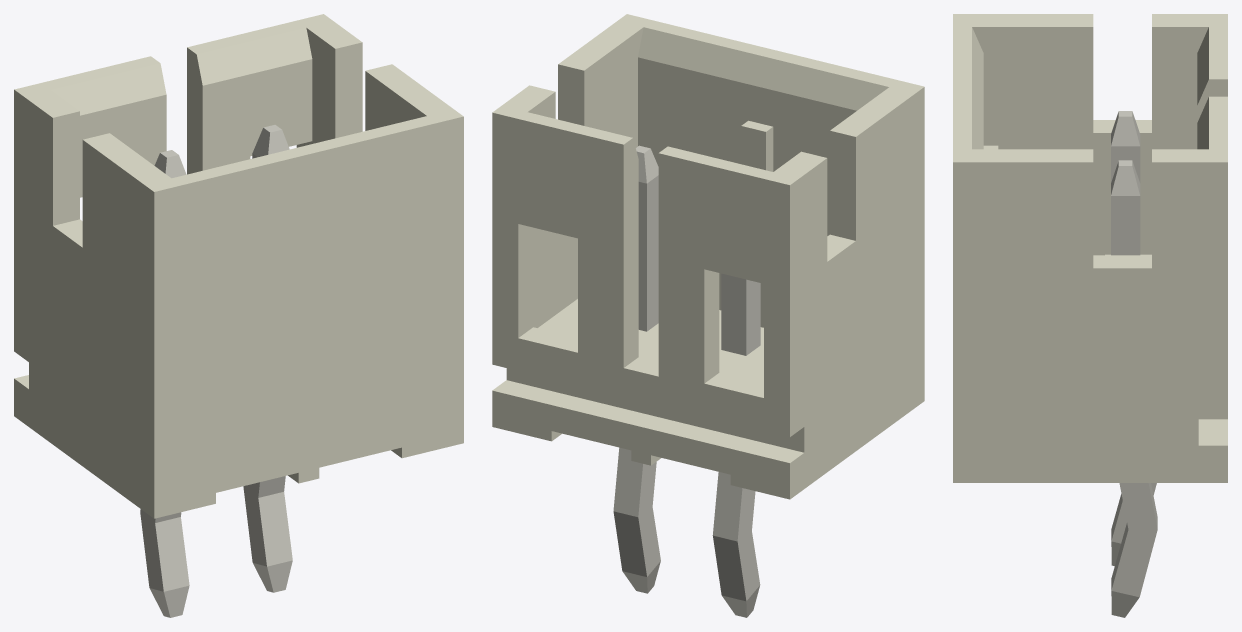
File: kc-te_440054-2_1x02_p2.00mm_vertical.glb
3 views of the same model, side by side, from view 1: azimuth 30°, elevation 25°; view 2: azimuth 150°, elevation 25°; view 3: azimuth 270°, elevation 25° (orthographic). The views are drawn at different scales.
Visible parts, largest first — view 1: 0.75_0.75_0.6666666666666666_0, 0.6666666666666666_0.6666666666666666_0.5833333333333334_0.8; view 2: 0.75_0.75_0.6666666666666666_0, 0.6666666666666666_0.6666666666666666_0.5833333333333334_0.8; view 3: 0.75_0.75_0.6666666666666666_0, 0.6666666666666666_0.6666666666666666_0.5833333333333334_0.8.
Boxes of the visible parts, x1,y1,x2,y2 form: 0.75_0.75_0.6666666666666666_0: [14, 14, 463, 518]; 0.6666666666666666_0.6666666666666666_0.5833333333333334_0.8: [140, 125, 292, 617]; 0.75_0.75_0.6666666666666666_0: [492, 14, 924, 499]; 0.6666666666666666_0.6666666666666666_0.5833333333333334_0.8: [613, 145, 760, 617]; 0.75_0.75_0.6666666666666666_0: [953, 14, 1227, 482]; 0.6666666666666666_0.6666666666666666_0.5833333333333334_0.8: [1111, 111, 1157, 617].
Bounding box in the file's own units: 0.6 × 0.9478 × 0.47.
